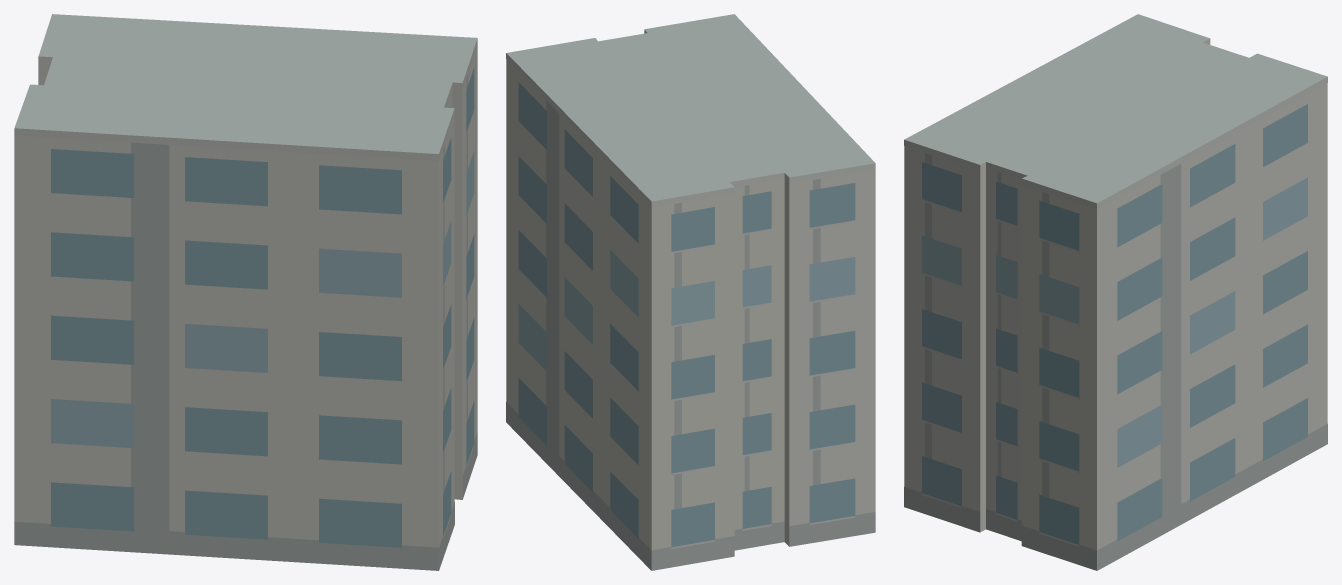
File: survey-upis-32906110.glb
The picture shows the model from 3 angles, left to right: view 1: azimuth 30°, elevation 25°; view 2: azimuth 150°, elevation 25°; view 3: azimuth 270°, elevation 25°; orthographic projection. The views are drawn at different scales.
Visible parts, largest first — view 1: survey-upis-32906110.tmp; view 2: survey-upis-32906110.tmp; view 3: survey-upis-32906110.tmp.
Part boxes in pixels (x1,y1,x2,y2): survey-upis-32906110.tmp: [14, 14, 477, 570]; survey-upis-32906110.tmp: [506, 14, 875, 570]; survey-upis-32906110.tmp: [904, 14, 1327, 570].
Bounding box in the file's own units: 15.48 × 14 × 14.63.
